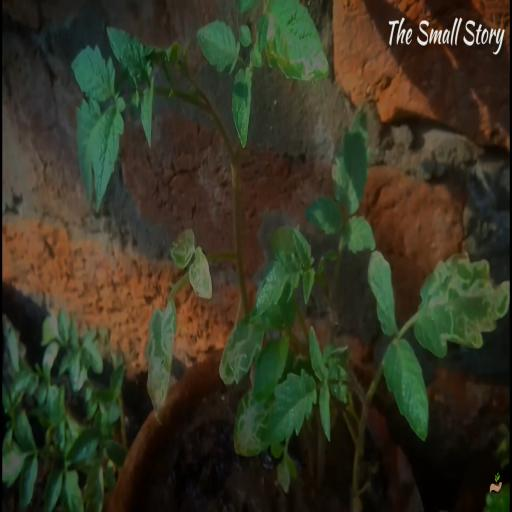Healthy: (384, 335, 429, 442), (261, 369, 317, 451), (90, 93, 126, 211), (72, 43, 116, 103), (195, 20, 241, 77)
Leaf_Miner: (415, 253, 510, 361), (257, 0, 332, 83), (144, 297, 177, 418), (220, 311, 269, 386), (233, 386, 271, 462), (189, 245, 212, 301), (169, 227, 195, 271)
